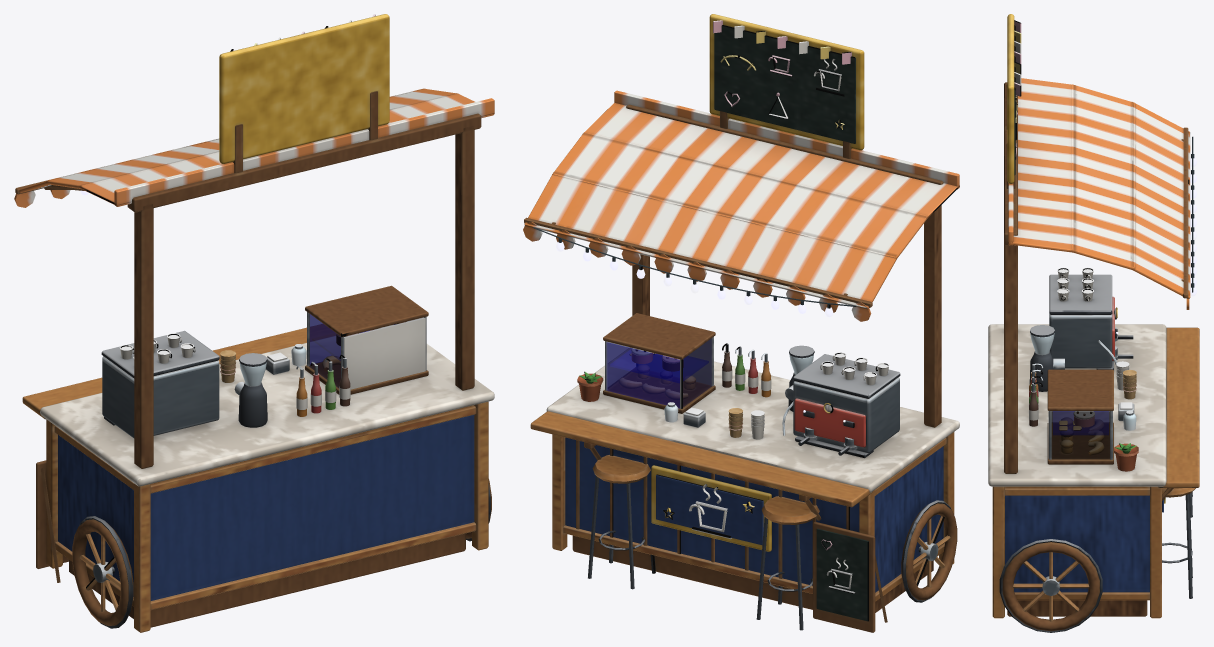
Rendered from coffee-kiosk.fbx.
3 views of the same model, side by side, from view 1: azimuth 30°, elevation 25°; view 2: azimuth 150°, elevation 25°; view 3: azimuth 270°, elevation 25° (orthographic). The views are drawn at different scales.
Parts seen in each view (by area): view 1: Body; view 2: Body; view 3: Body, Anim Blink.
Boxes of the visible parts, x1,y1,x2,y2 form: Body: (14,14,494,632); Body: (523,14,959,632); Body: (988,14,1199,632); Anim Blink: (1190,157,1197,296).
Bounding box in the file's own units: 2.26 × 3.19 × 1.21.
